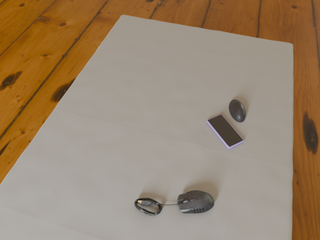mouse: (174, 190, 214, 214), (229, 100, 246, 122)
phone: (207, 114, 244, 149)
